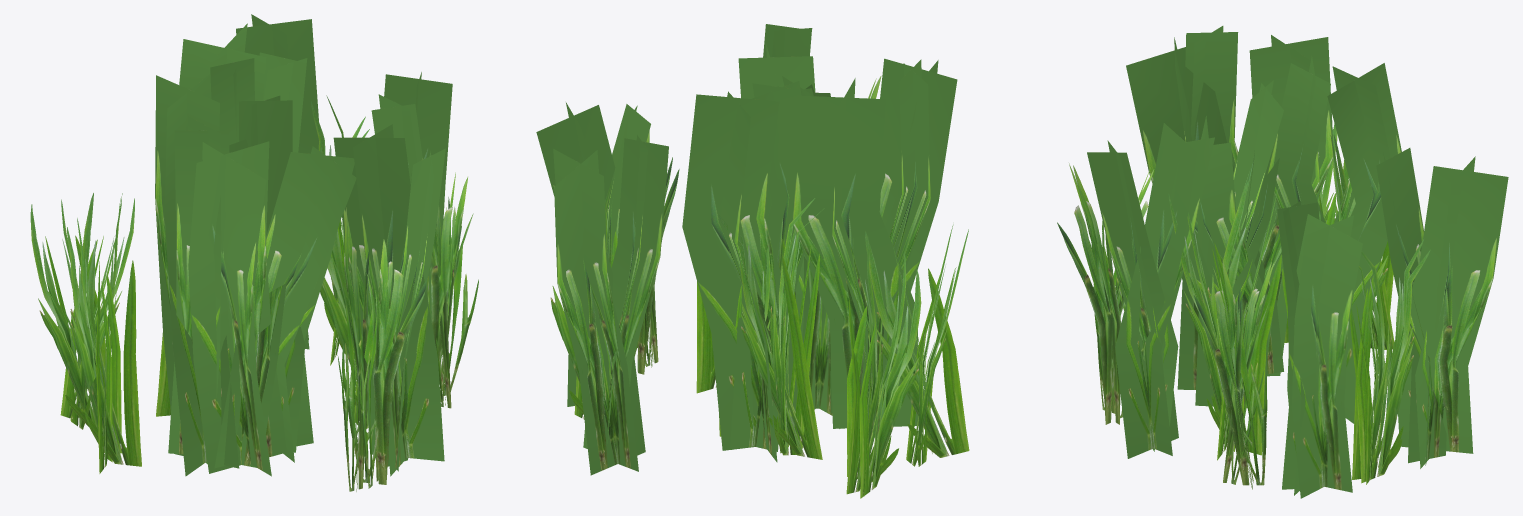
The model's file is Grass01.fbx.
3 renders of one model, left to right at view 1: azimuth 30°, elevation 25°; view 2: azimuth 150°, elevation 25°; view 3: azimuth 270°, elevation 25°, orthographic. The views are drawn at different scales.
Parts seen in each view (by area): view 1: polySurface125; view 2: polySurface125; view 3: polySurface125.
Boxes of the visible parts, x1,y1,x2,y2 form: polySurface125: [30, 14, 478, 491]; polySurface125: [536, 24, 969, 498]; polySurface125: [1057, 26, 1508, 498].
Bounding box in the file's own units: 0.4825 × 0.3994 × 0.505.
